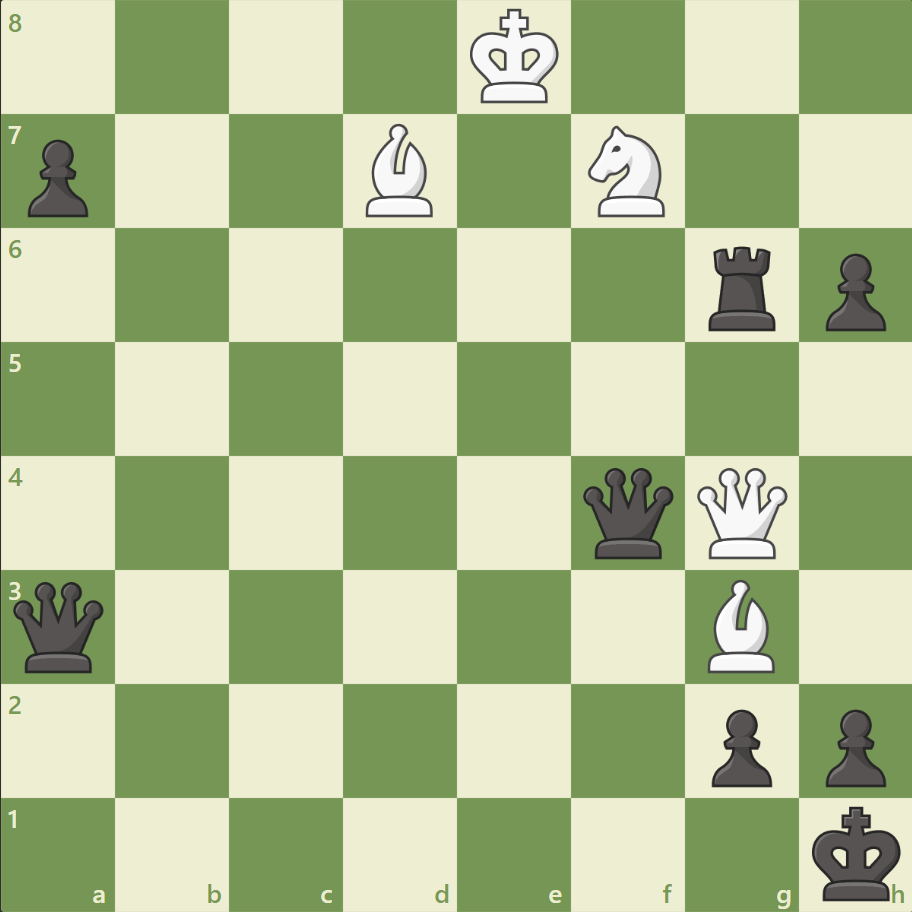B: (358, 120, 442, 222), (698, 574, 782, 676)
K: (465, 4, 565, 112)
N: (579, 121, 676, 223)
Q: (691, 463, 790, 562)
k: (806, 798, 906, 906)
p: (20, 132, 95, 223), (701, 700, 776, 791), (815, 246, 889, 337), (815, 700, 889, 791)
q: (10, 576, 109, 676), (578, 463, 677, 562)
r: (700, 239, 783, 336)
